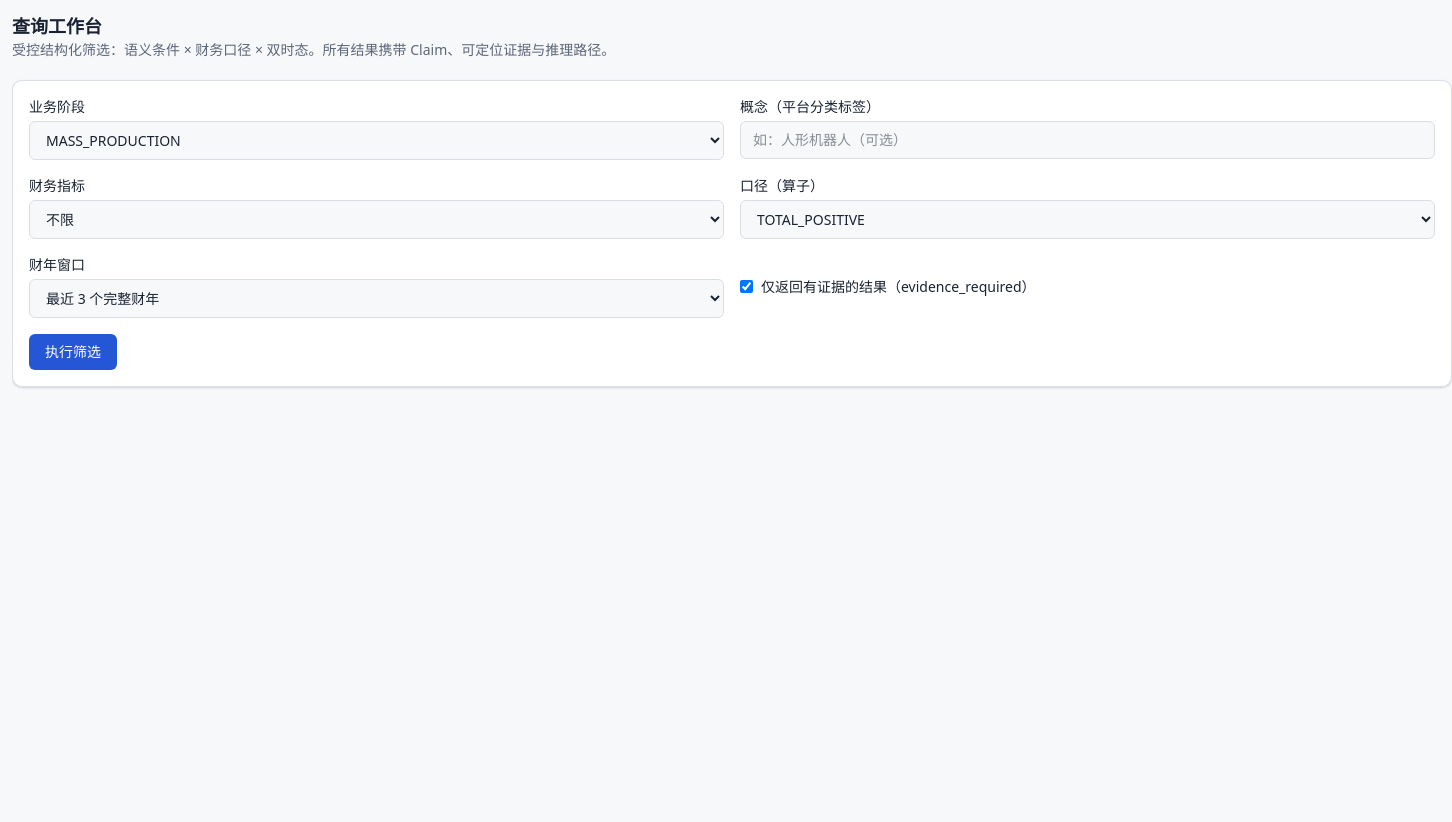
查询工作台（issue #31 关闭条件） › 非法输入（422）：展示后端受控错误与 trace_id，不发第二猜测请求
Click the button "执行筛选" at (73, 352), box left=29, top=334, right=117, bottom=370
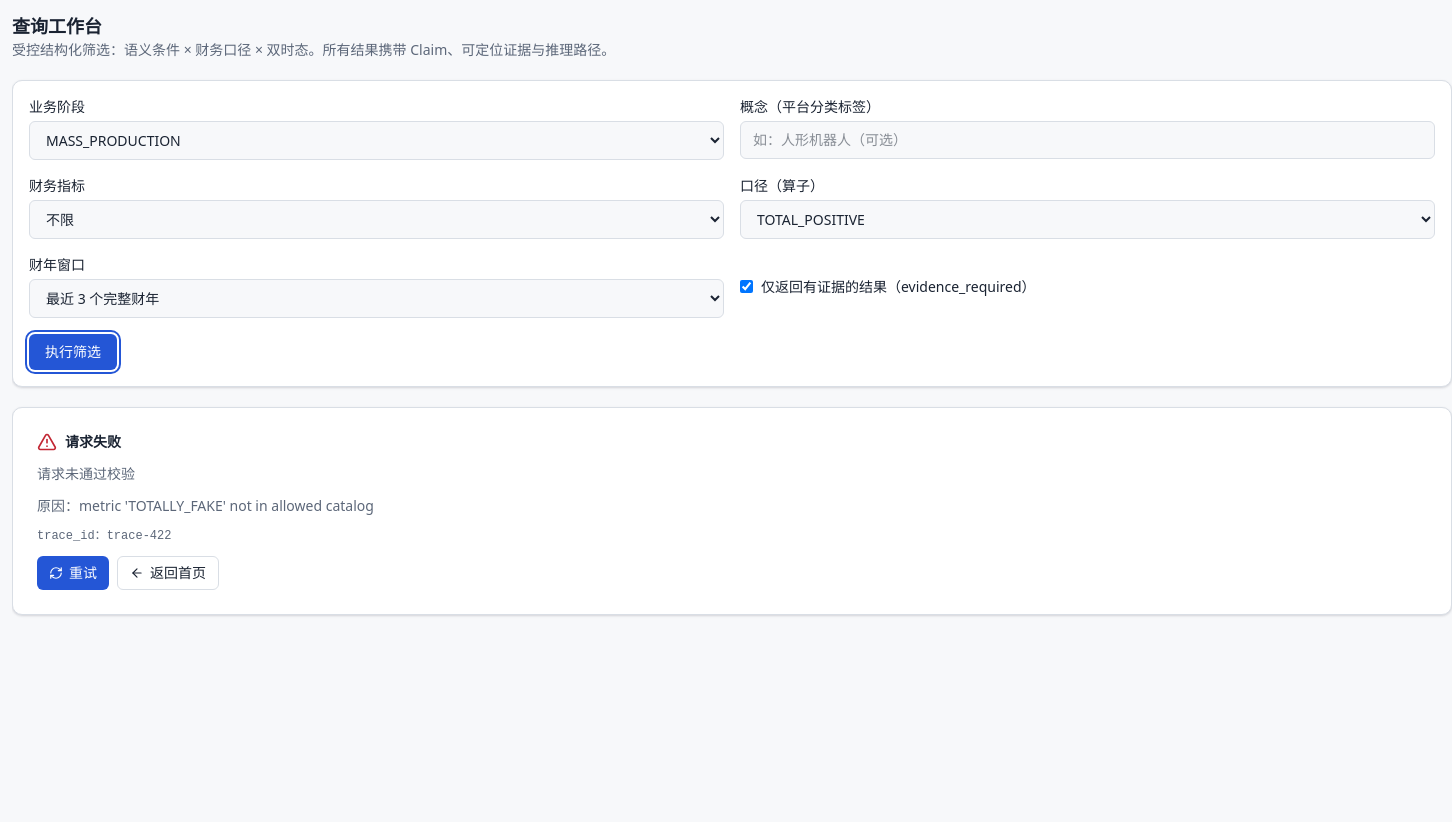
Result: the message is shown at left=12, top=407, right=1451, bottom=615
Result: the text "请求未通过校验" is shown at left=37, top=464, right=135, bottom=484
Result: the text "原因：metric 'TOTALLY_FAKE' not in allowed catalog" is shown at left=37, top=496, right=374, bottom=516
